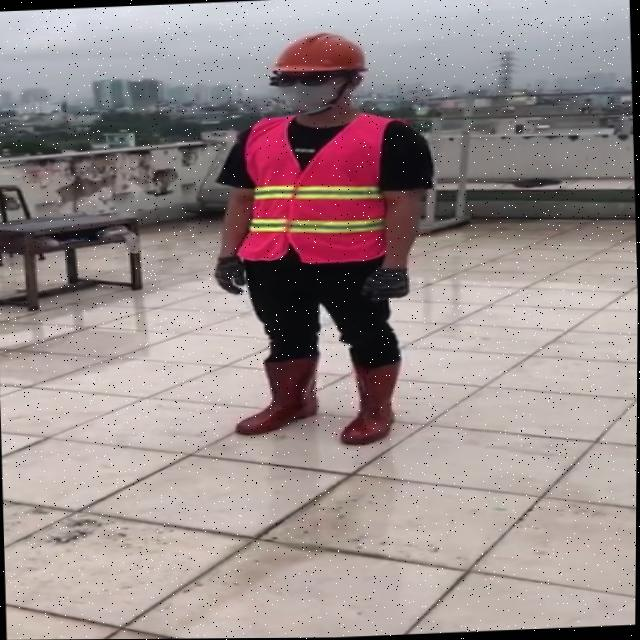goggles_on: (267, 67, 370, 91)
